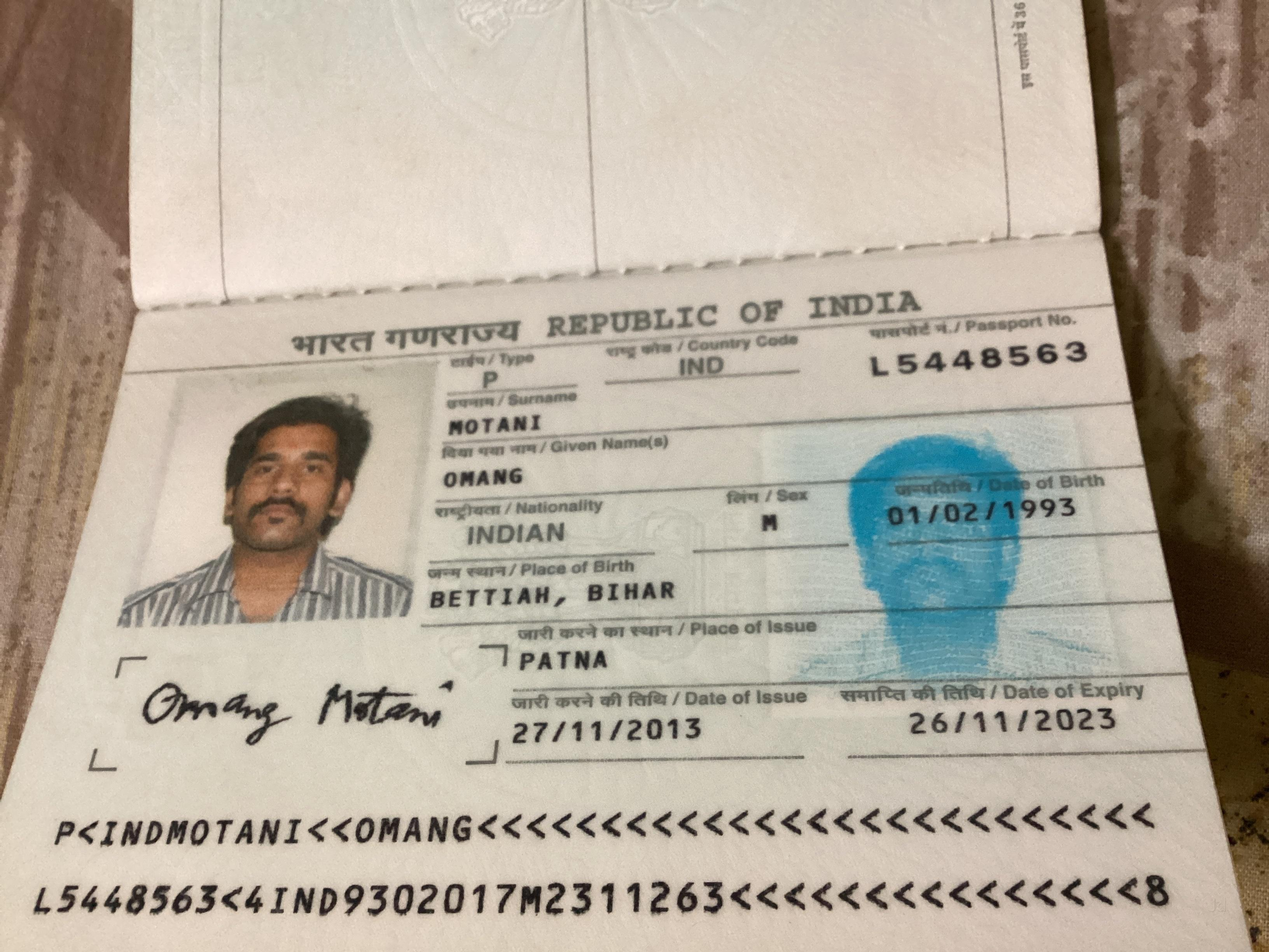DOB: (877, 497, 1090, 528)
Surname: (446, 411, 547, 441)
country_code: (676, 349, 731, 388)
date_of_expiry: (903, 703, 1119, 742)
date_of_issue: (503, 712, 715, 754)
details: (21, 804, 1183, 923)
name: (442, 464, 540, 494)
nationality: (458, 516, 574, 545)
passport_no: (866, 333, 1098, 380)
photo: (172, 371, 419, 625)
place_of_birth: (425, 577, 683, 612)
place_of_issue: (511, 638, 627, 677)
sex: (757, 504, 795, 538)
sign: (130, 667, 449, 754)
type: (474, 367, 511, 394)
